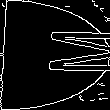M_W: (4, 31, 106, 79)
